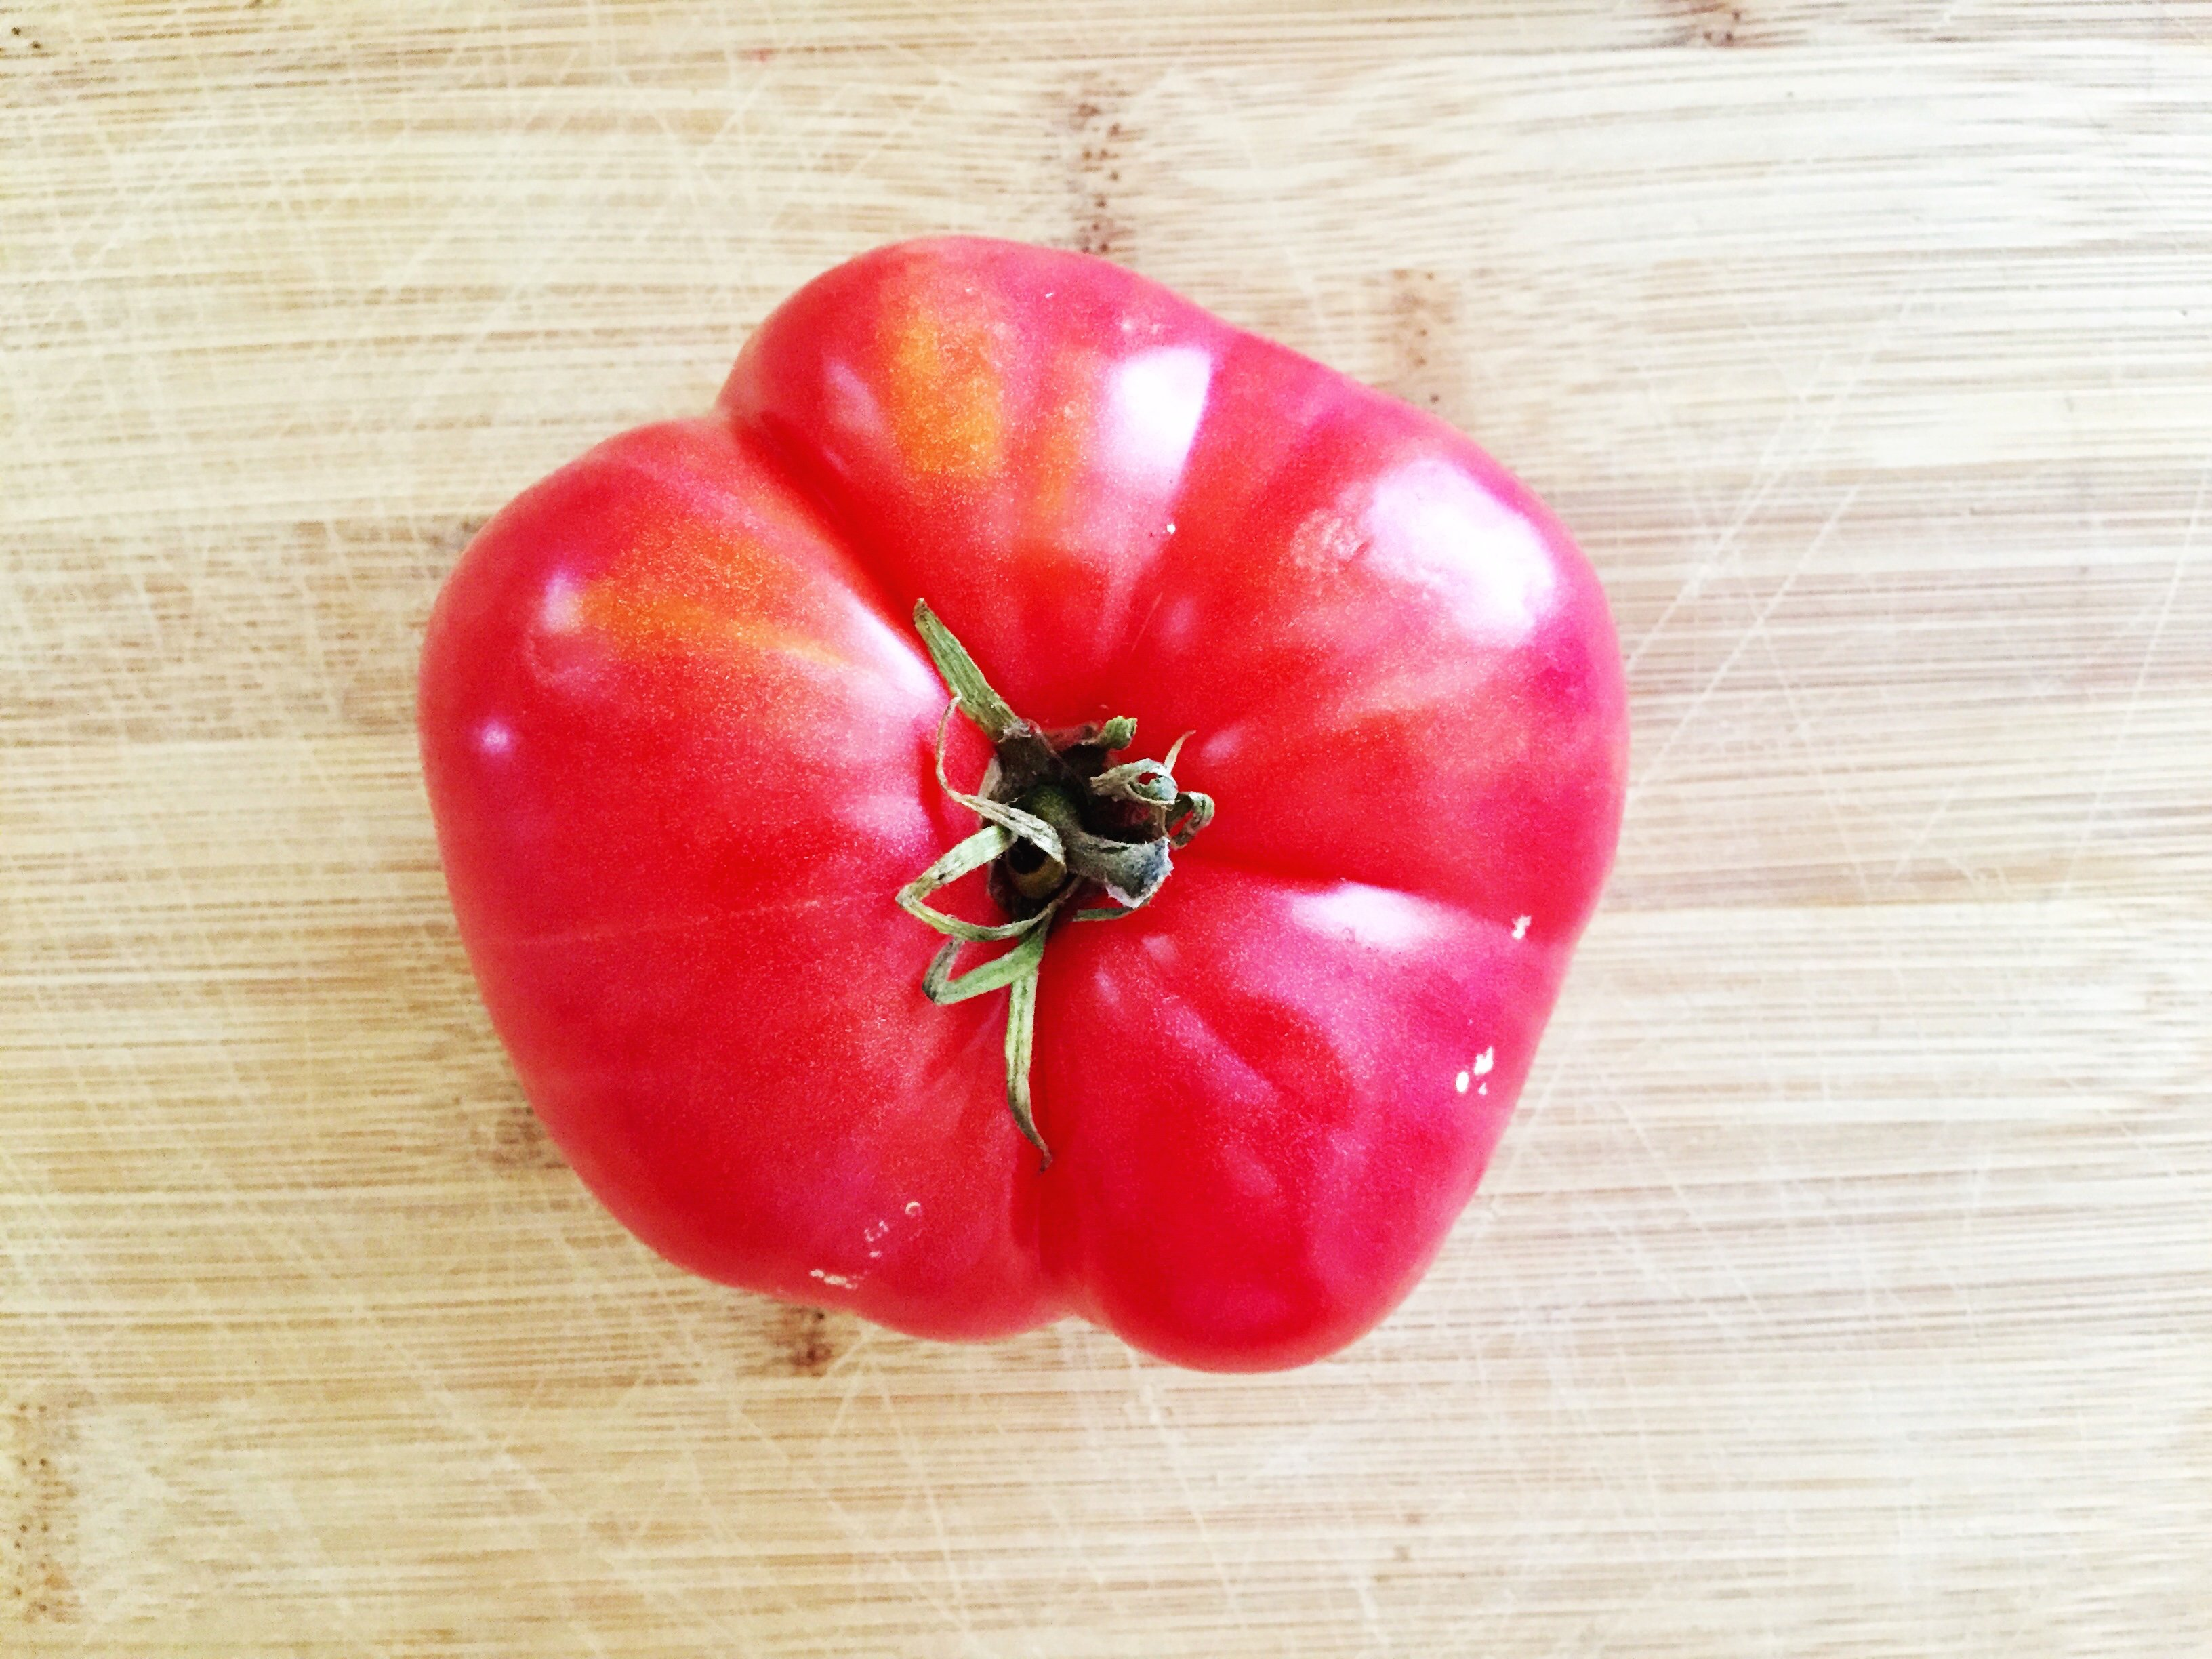tomato: (416, 237, 1632, 1371)
